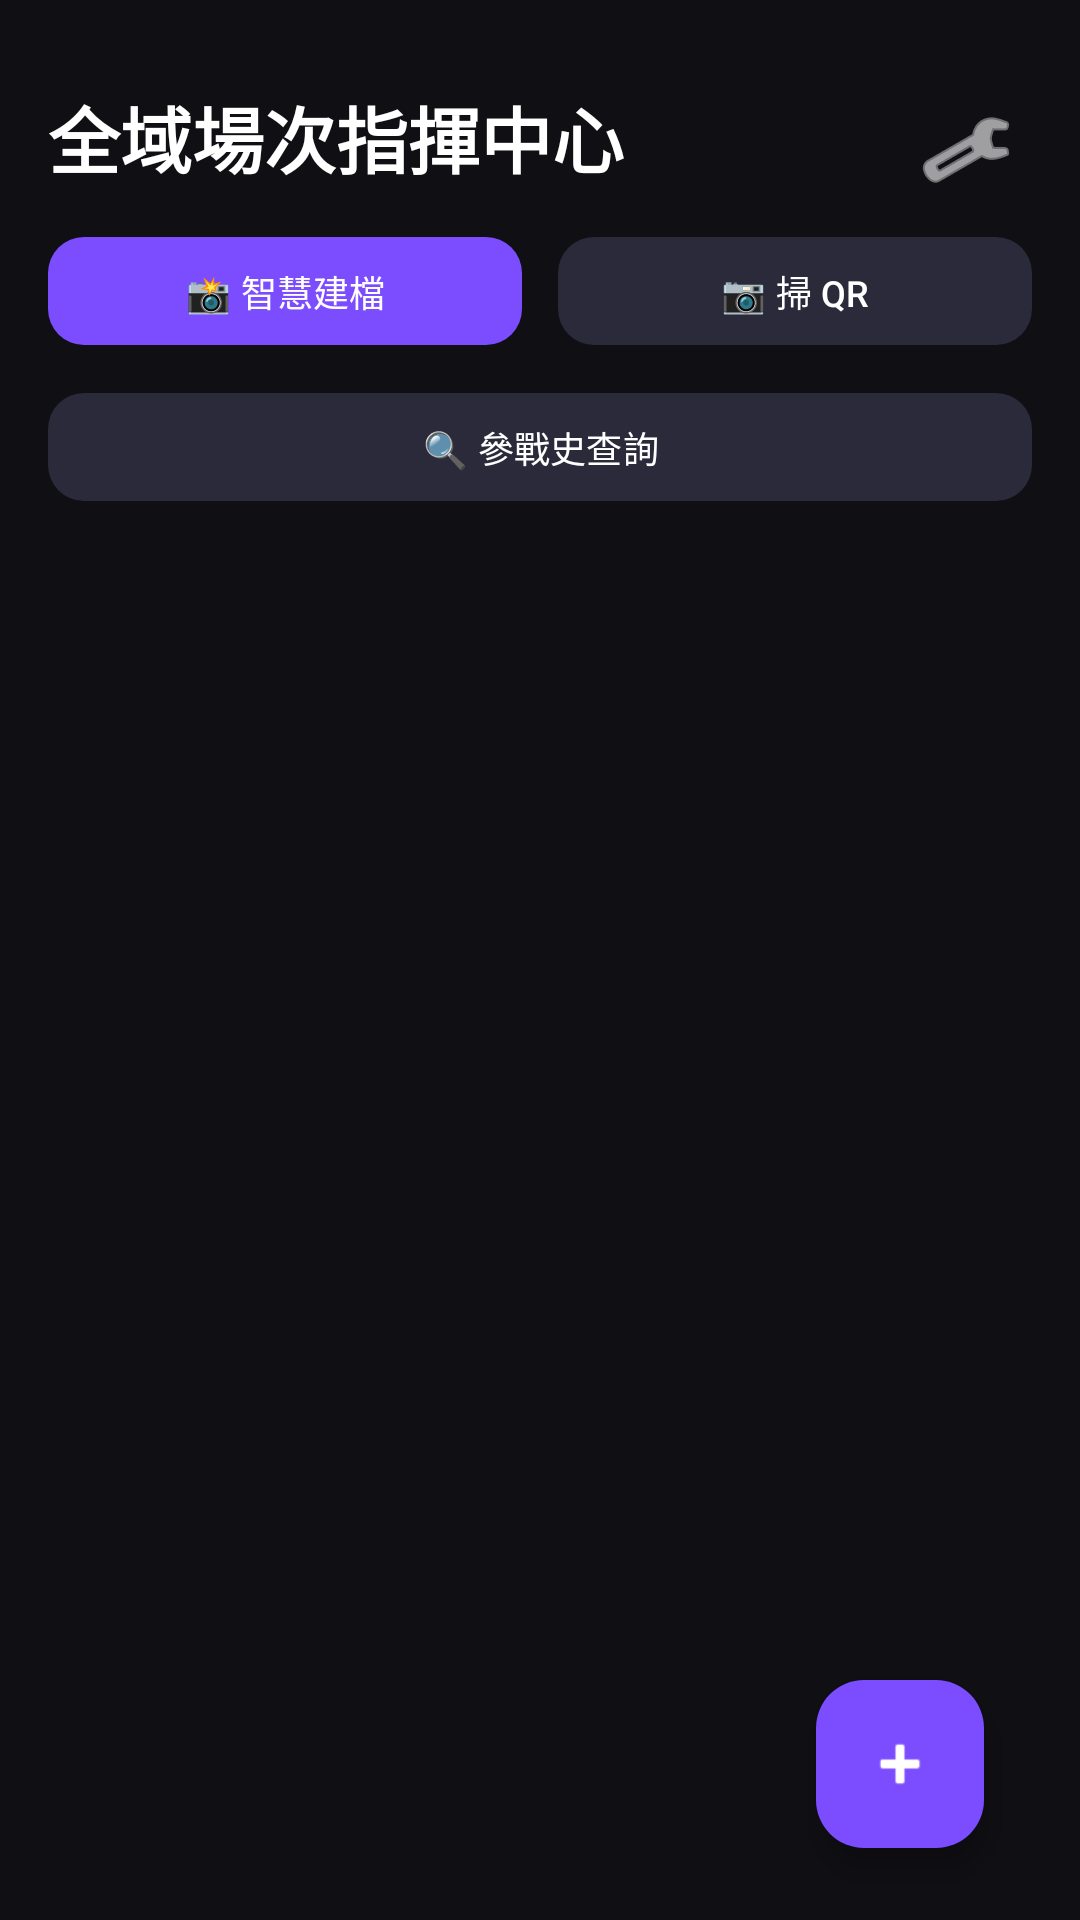

Named icons in this screenshot (1080*1920) and their bounding boxes, (left=x1, top=y1, right=x2, bottom=y2):
preferences: (left=923, top=117, right=1009, bottom=183)
手動新增: (left=816, top=1680, right=984, bottom=1848)
